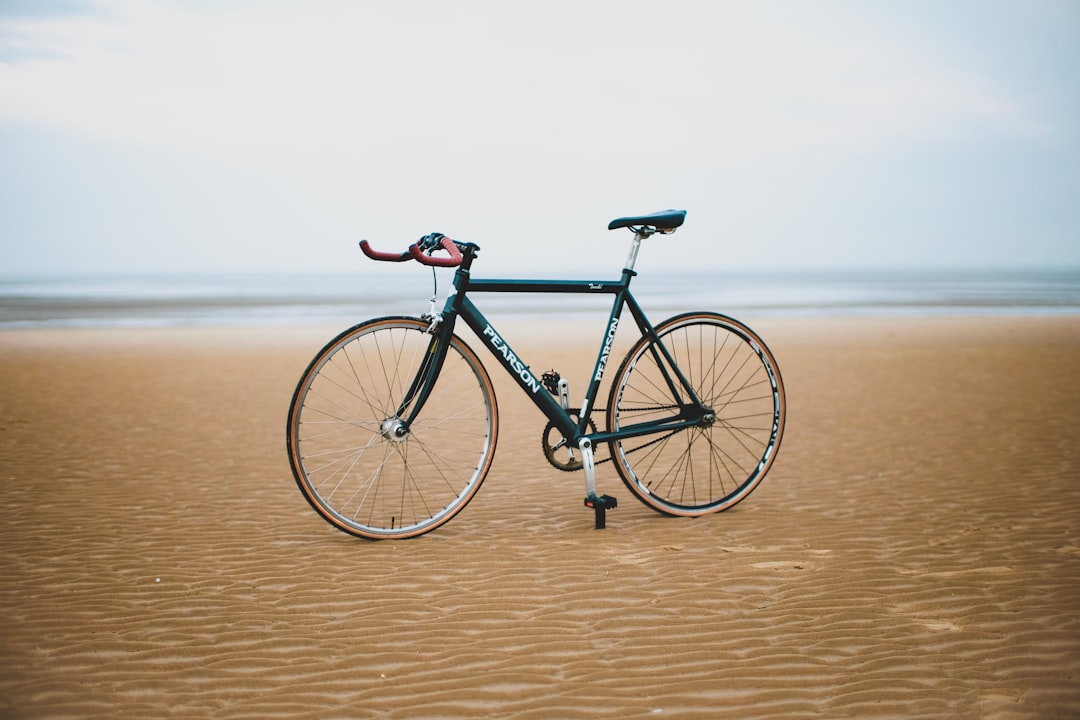bicycle: (287, 208, 787, 539)
